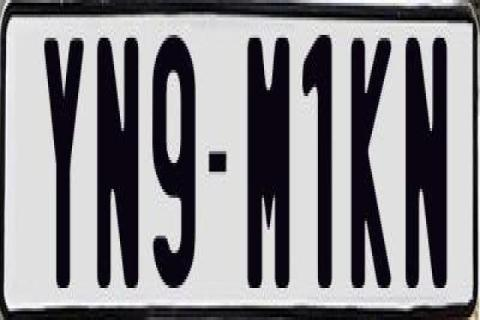0: (153, 35, 197, 288), (300, 26, 330, 282)
K: (348, 38, 394, 291)
M: (248, 38, 294, 302)
N: (98, 35, 142, 291), (404, 32, 444, 282)
Y: (44, 35, 85, 288)
